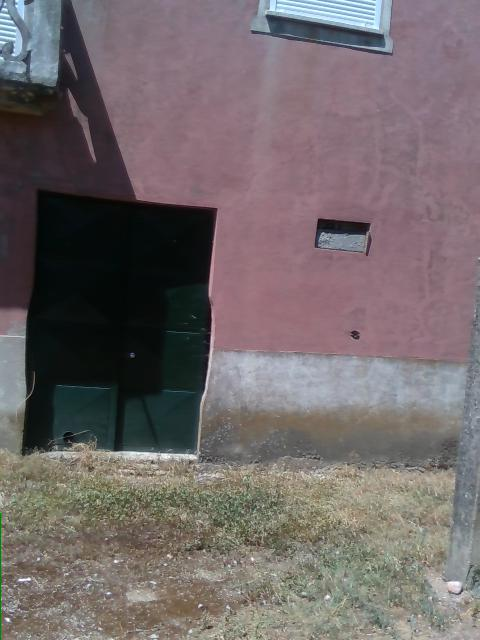door: (24, 189, 215, 463)
